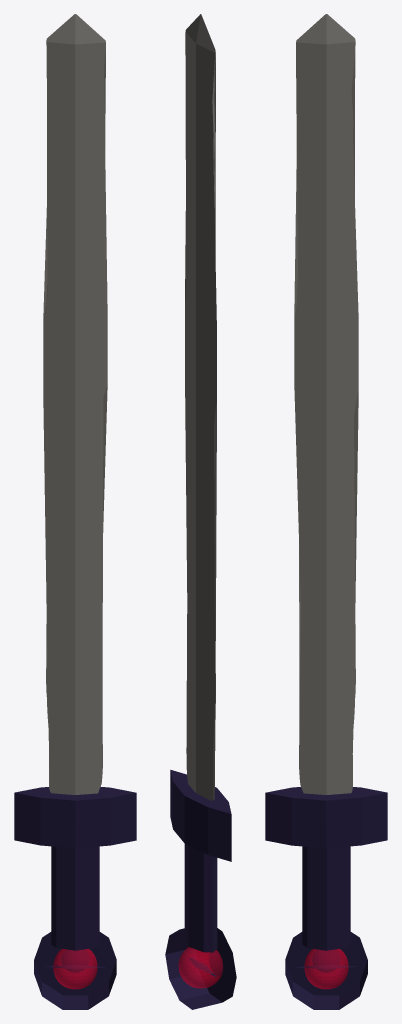
Rendered from Longsword.fbx.
The picture shows the model from 3 angles, left to right: view 1: azimuth 90°, elevation 25°; view 2: azimuth 210°, elevation 25°; view 3: azimuth 270°, elevation 25°; orthographic projection.
Visible parts, largest first — view 1: Blade, Handle, Cube; view 2: Blade, Handle, Cube; view 3: Blade, Handle, Cube.
Boxes of the visible parts, x1=… form: Blade: x1=43, y1=14, x2=107, y2=794; Handle: x1=14, y1=786, x2=136, y2=1009; Cube: x1=53, y1=948, x2=97, y2=989; Blade: x1=185, y1=14, x2=216, y2=800; Handle: x1=165, y1=769, x2=236, y2=1009; Cube: x1=178, y1=947, x2=223, y2=988; Blade: x1=294, y1=14, x2=358, y2=794; Handle: x1=265, y1=787, x2=387, y2=1009; Cube: x1=304, y1=948, x2=348, y2=989.
Bounding box in the file's own units: 7.29 × 180 × 20.18.
